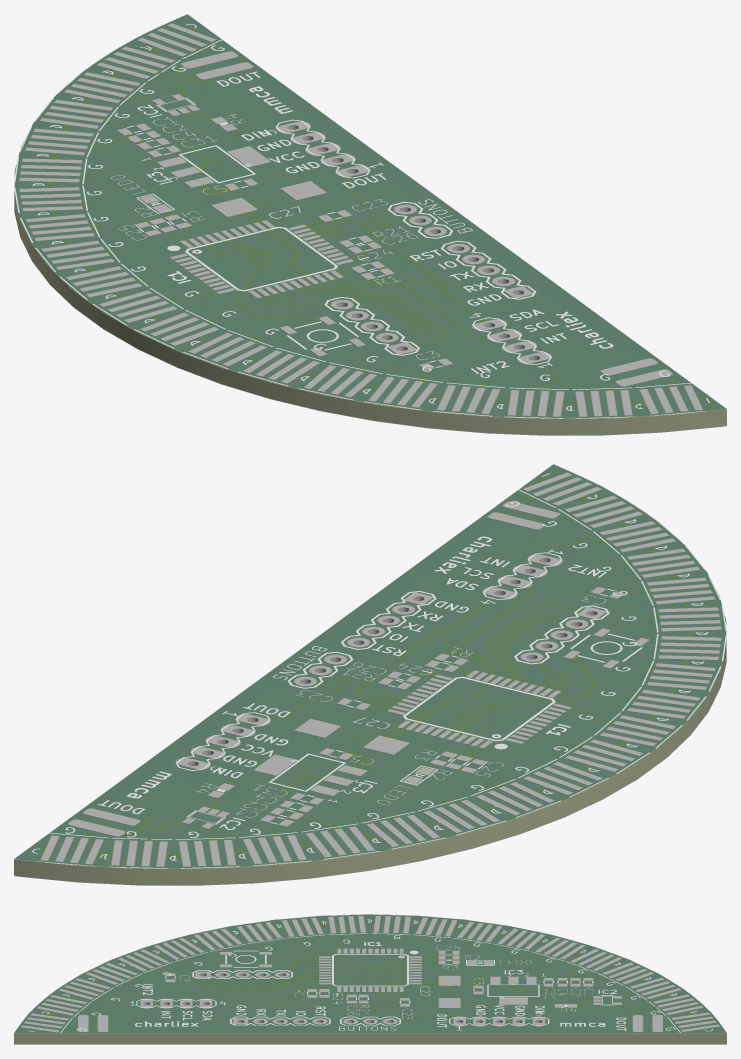
File: blinky-ball-rgb-badge.glb
3 views of the same model, one above another, from view 1: azimuth 30°, elevation 25°; view 2: azimuth 150°, elevation 25°; view 3: azimuth 270°, elevation 25° (orthographic). The views are drawn at different scales.
Parts seen in each view (by area): view 1: =>[0:1:1:7], =>[0:1:1:9], =>[0:1:1:2], =>[0:1:1:5]; view 2: =>[0:1:1:7], =>[0:1:1:9], =>[0:1:1:2], =>[0:1:1:5]; view 3: =>[0:1:1:7], =>[0:1:1:9], =>[0:1:1:2], =>[0:1:1:5].
Part boxes in pixels (left/top/right/bottom): =>[0:1:1:7]: left=14, top=14, right=726, bottom=435; =>[0:1:1:9]: left=14, top=15, right=726, bottom=435; =>[0:1:1:2]: left=19, top=23, right=713, bottom=416; =>[0:1:1:5]: left=14, top=21, right=709, bottom=418; =>[0:1:1:7]: left=14, top=464, right=726, bottom=885; =>[0:1:1:9]: left=14, top=465, right=726, bottom=885; =>[0:1:1:2]: left=40, top=471, right=720, bottom=866; =>[0:1:1:5]: left=32, top=470, right=726, bottom=868; =>[0:1:1:7]: left=14, top=914, right=726, bottom=1044; =>[0:1:1:9]: left=14, top=915, right=726, bottom=1044; =>[0:1:1:2]: left=21, top=916, right=719, bottom=1032; =>[0:1:1:5]: left=17, top=914, right=722, bottom=1033.
Size of the model in its own units: 0.0361 by 0.00166 by 0.0914.
4 materials, 4 textured.
